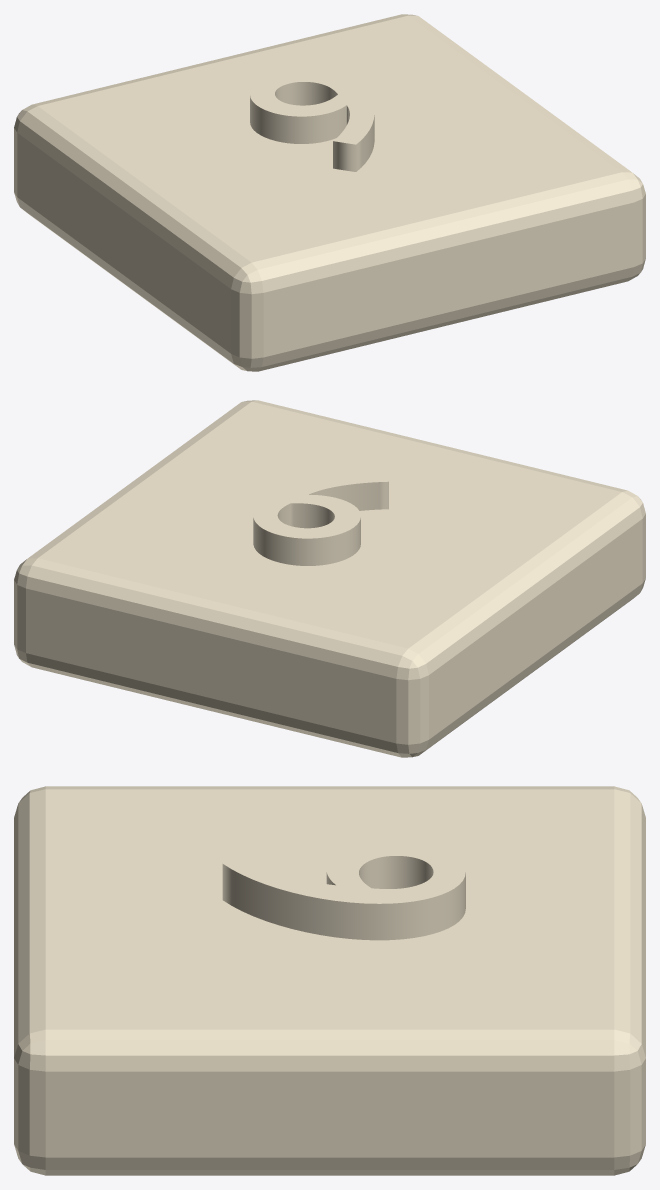
The model's file is Tile_9.fbx.
3 views of the same model, one above another, from view 1: azimuth 30°, elevation 25°; view 2: azimuth 150°, elevation 25°; view 3: azimuth 270°, elevation 25° (orthographic). The views are drawn at different scales.
Parts seen in each view (by area): view 1: Tile_9; view 2: Tile_9; view 3: Tile_9.
Boxes of the visible parts, box(x1,y1,x2,y2) form: Tile_9: box(14, 14, 645, 371); Tile_9: box(14, 400, 645, 757); Tile_9: box(14, 786, 645, 1175).
Size of the model in its own units: 80 by 25.1 by 80.
